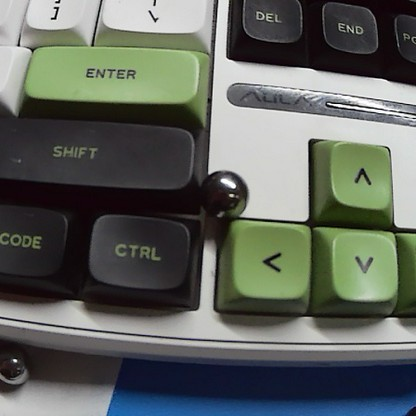ironball: (197, 165, 252, 225), (0, 348, 41, 390)
